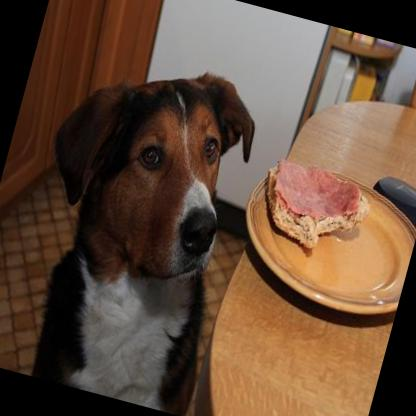Appenzeller: (0, 38, 271, 413)
